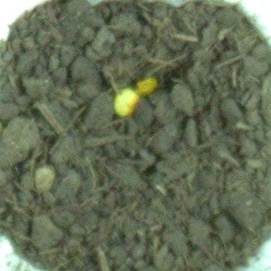pepper seed: (42, 29, 182, 146), (54, 25, 213, 125)
